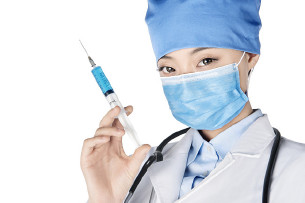face_mask: (156, 39, 243, 129)
